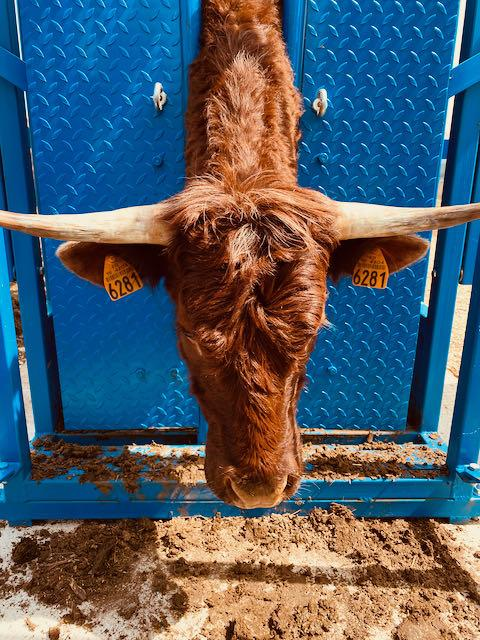muzzles: (204, 465, 302, 516)
